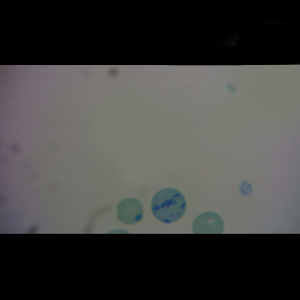aggregate reticulocyte: (150, 187, 188, 224)
erythrocyte: (115, 197, 145, 226)
